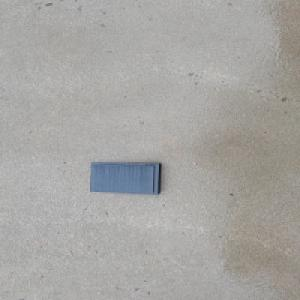PlasticPart: (87, 161, 162, 195)
